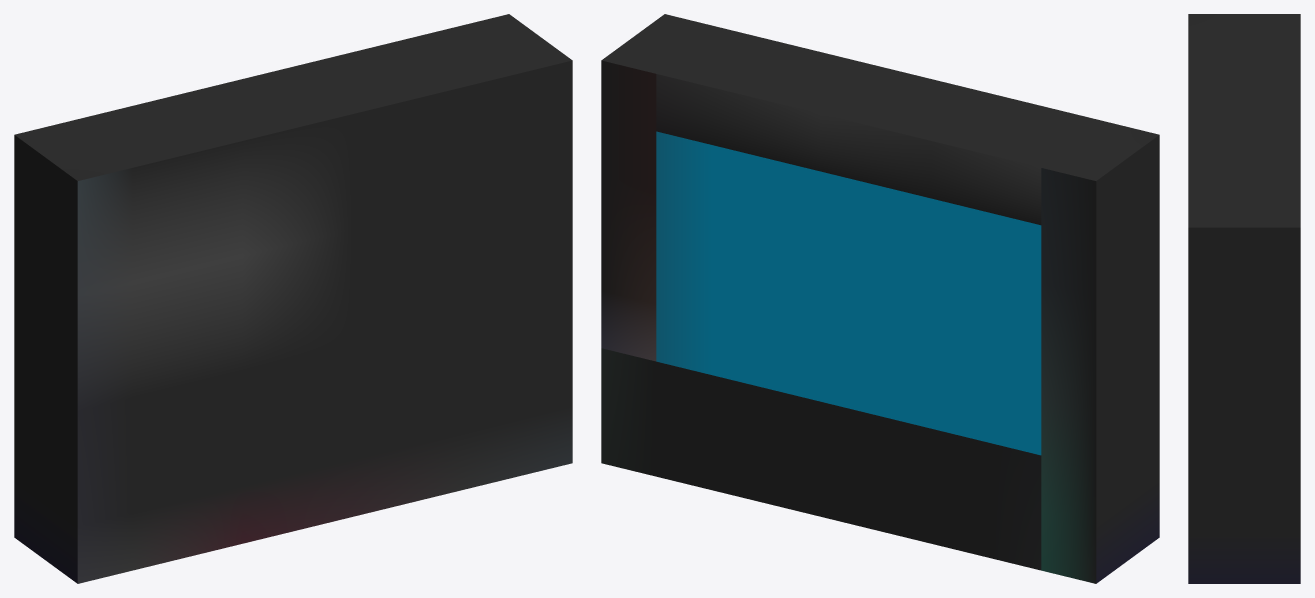
The picture shows the model from 3 angles, left to right: view 1: azimuth 30°, elevation 25°; view 2: azimuth 150°, elevation 25°; view 3: azimuth 270°, elevation 25°; orthographic projection. The views are drawn at different scales.
Parts seen in each view (by area): view 1: TV_00; view 2: TV_00; view 3: TV_00.
Part boxes in pixels (x1,y1,x2,y2): TV_00: (14, 14, 572, 583); TV_00: (601, 14, 1159, 583); TV_00: (1188, 14, 1300, 583).
Bounding box in the file's own units: 45 × 35 × 10.
